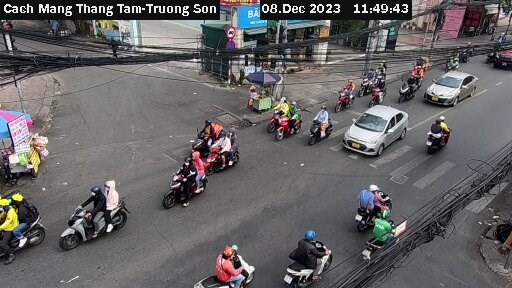car: (343, 104, 408, 160), (422, 71, 482, 110), (490, 38, 512, 69)
motorbike: (55, 185, 133, 248), (274, 231, 337, 288), (344, 211, 409, 264), (164, 153, 215, 218), (2, 188, 45, 265), (190, 240, 258, 288), (341, 182, 396, 222), (419, 114, 462, 158), (203, 137, 246, 168), (303, 110, 339, 147), (275, 108, 307, 141), (183, 125, 223, 151), (329, 79, 359, 113), (396, 75, 423, 102), (408, 57, 430, 82), (443, 49, 465, 73), (370, 83, 392, 106)
